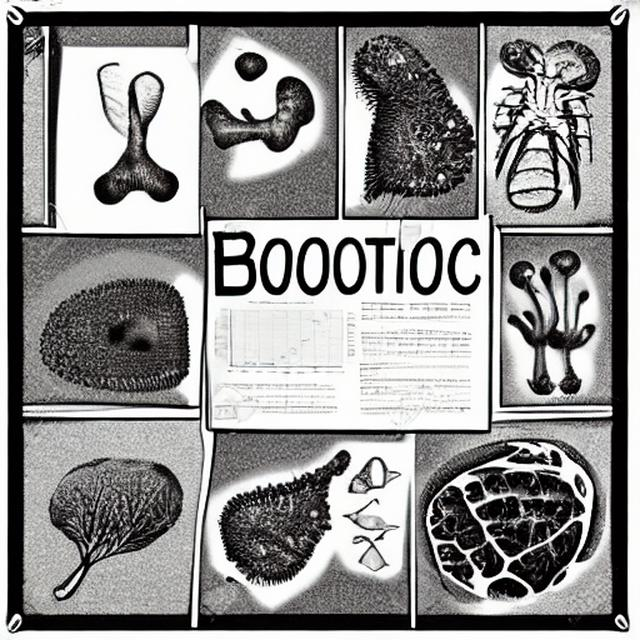Graph: (212, 299, 347, 379)
